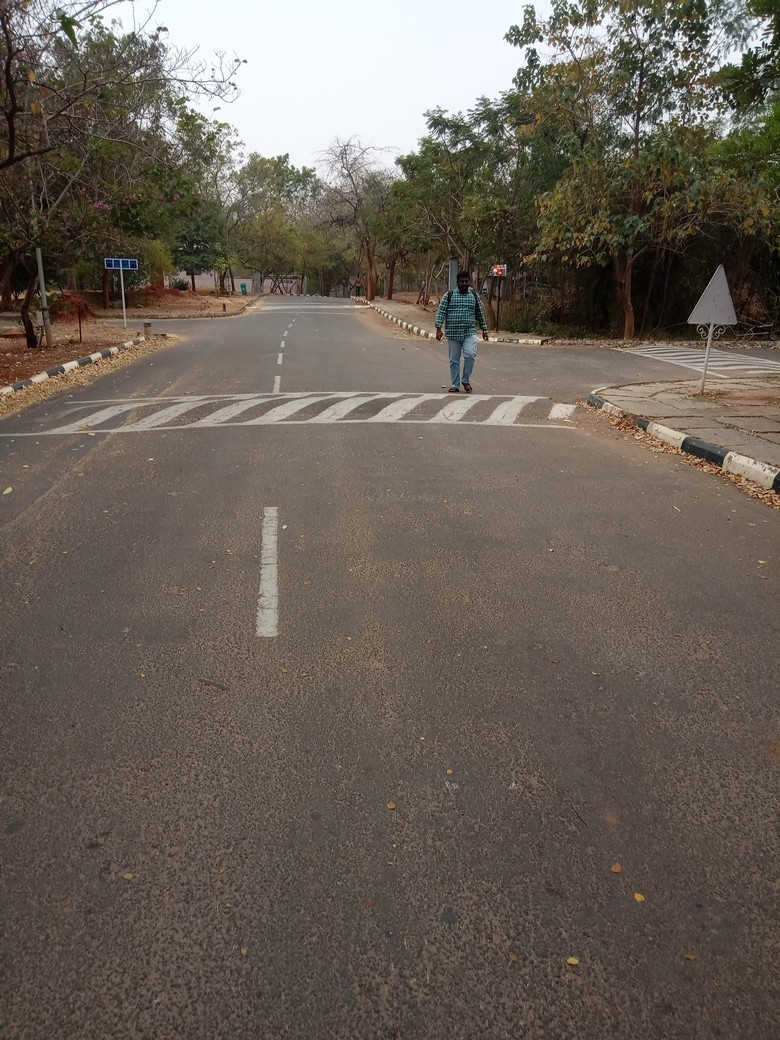bump: (3, 391, 591, 431)
